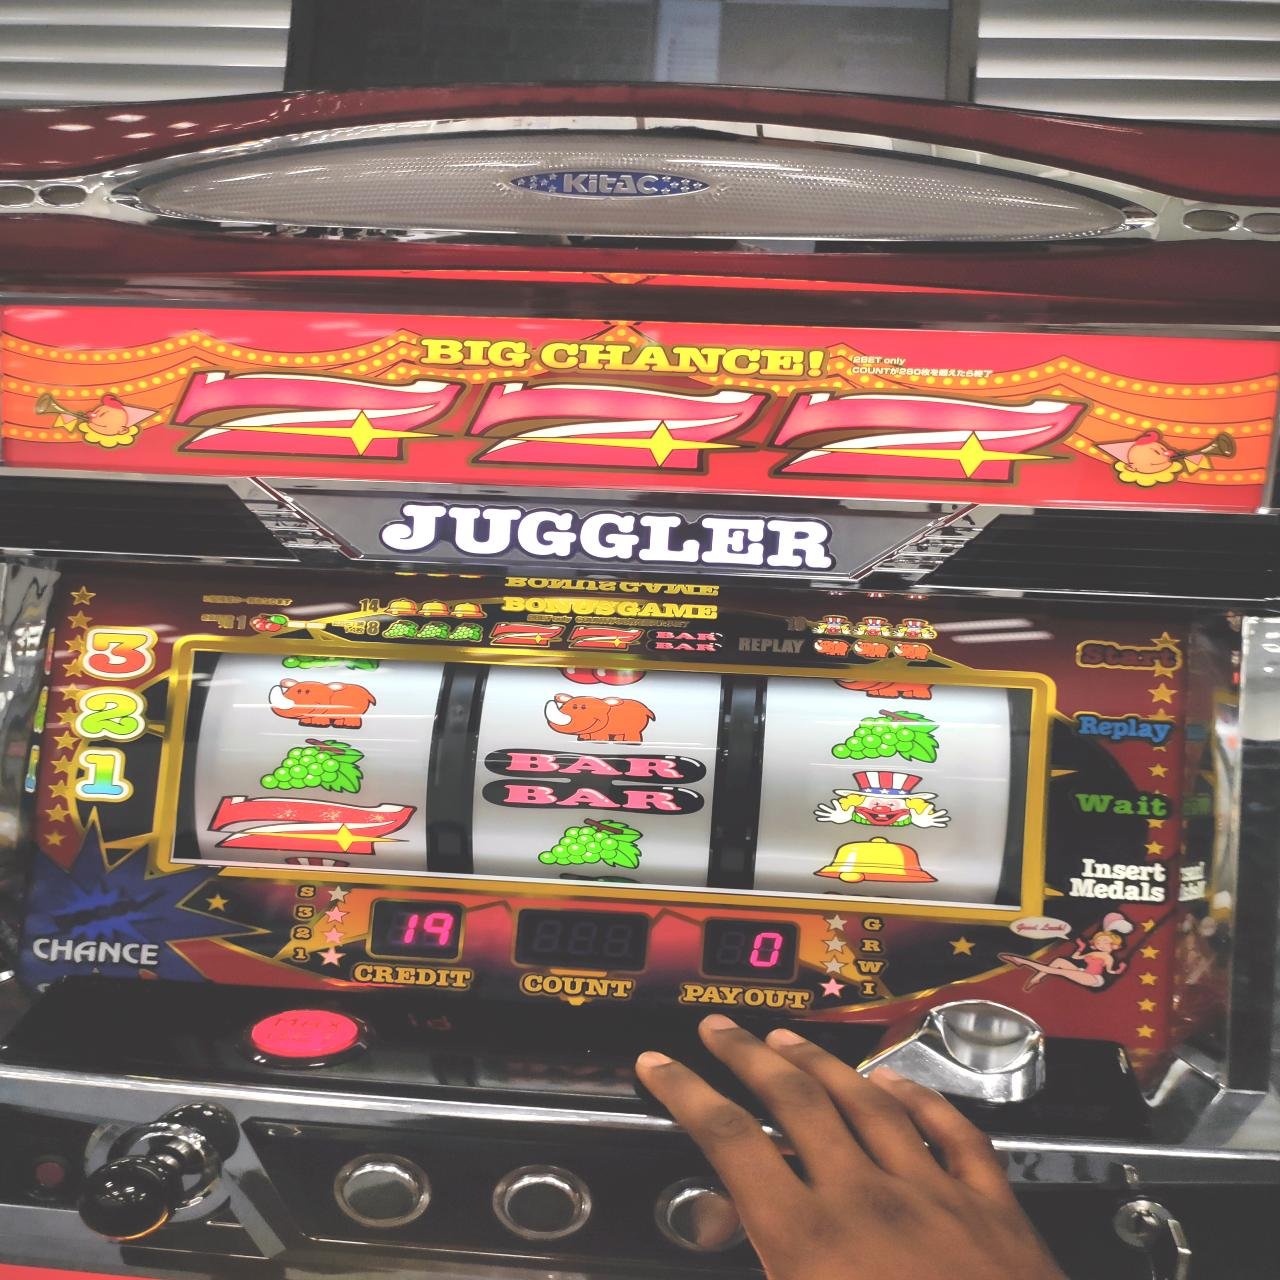7: (209, 794, 410, 863)
8: (546, 690, 655, 744), (264, 680, 375, 729)
Display: (181, 647, 1026, 913)
bar: (481, 748, 708, 816)
bell: (813, 836, 938, 887)
clown: (817, 768, 953, 829)
grape: (536, 816, 645, 871), (264, 735, 366, 792), (833, 709, 941, 763)
